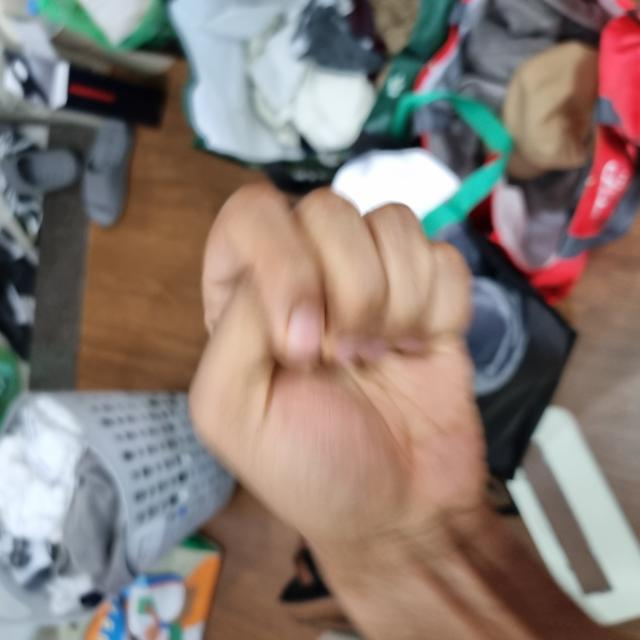Rock: (79, 191, 456, 481)
